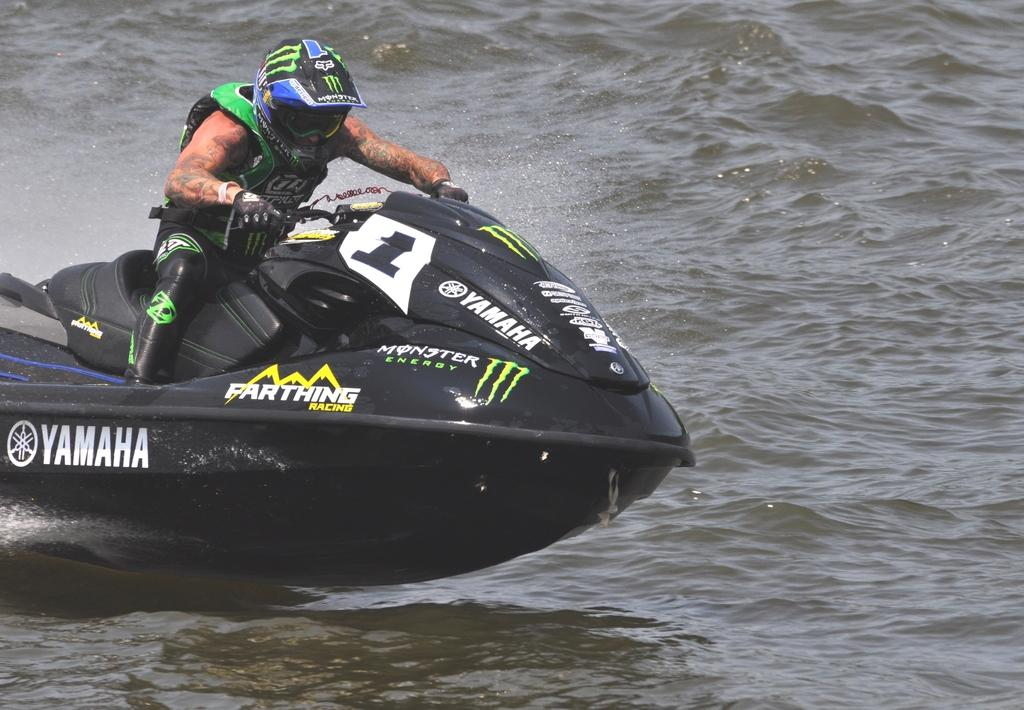helmet: (252, 37, 368, 180)
